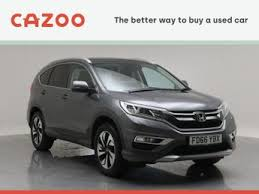Honda: (28, 58, 236, 174)
